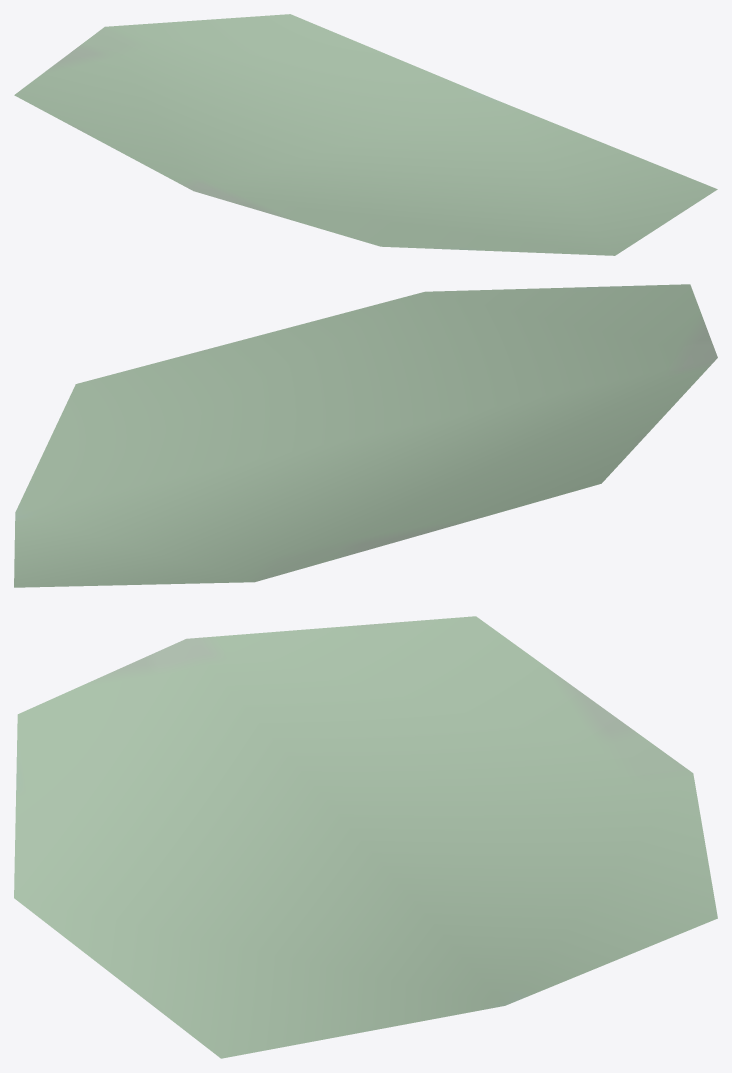
The model's file is TROLLHOLE02_HOLECAP105.fbx.
3 views of the same model, one above another, from view 1: azimuth 30°, elevation 25°; view 2: azimuth 150°, elevation 25°; view 3: azimuth 270°, elevation 25° (orthographic). The views are drawn at different scales.
Parts seen in each view (by area): view 1: TROLLHOLE02_HOLECAP105; view 2: TROLLHOLE02_HOLECAP105; view 3: TROLLHOLE02_HOLECAP105.
Part boxes in pixels (x1=…): TROLLHOLE02_HOLECAP105: x1=14, y1=14, x2=717, y2=255; TROLLHOLE02_HOLECAP105: x1=14, y1=284, x2=717, y2=587; TROLLHOLE02_HOLECAP105: x1=14, y1=616, x2=717, y2=1058.
Bounding box in the file's own units: 27636 × 6613 × 28113.
Materials: 1 (1 with a texture image).
